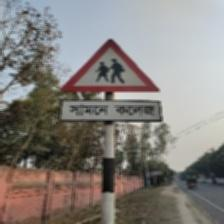College-in-front: (49, 27, 188, 156)
